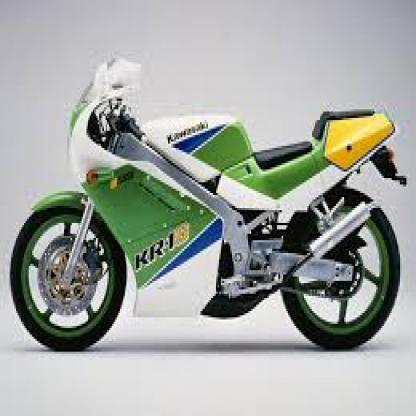Motorcycle: (5, 41, 411, 367)
